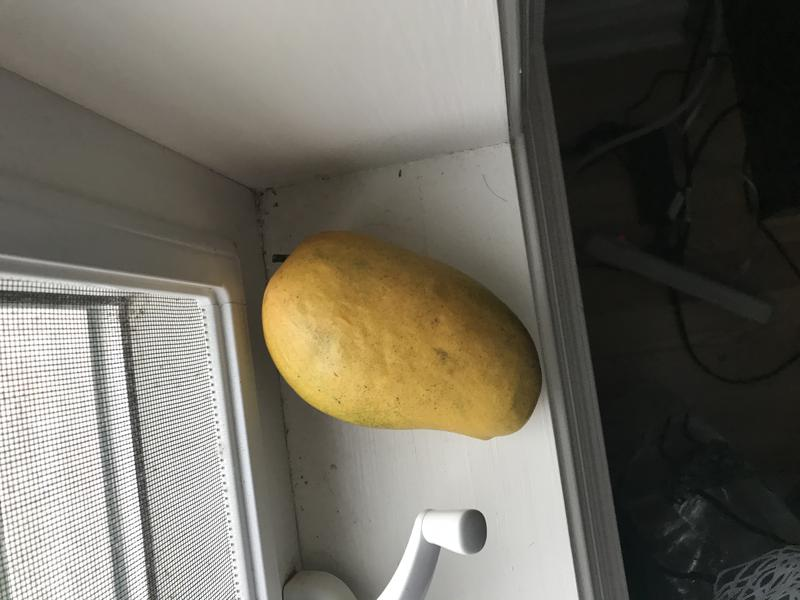mango: (254, 218, 546, 454)
